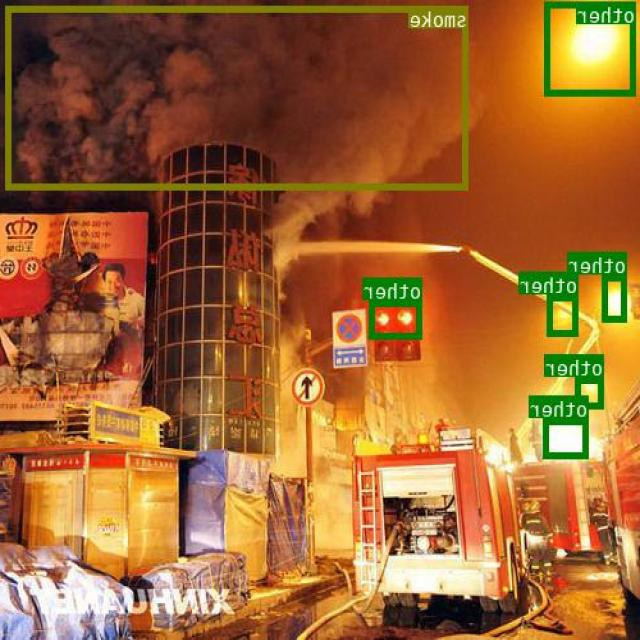other: (546, 1, 637, 95), (371, 299, 423, 338), (544, 417, 590, 458), (548, 294, 580, 335), (603, 274, 628, 321), (576, 376, 605, 408)
smoke: (8, 5, 470, 188)
